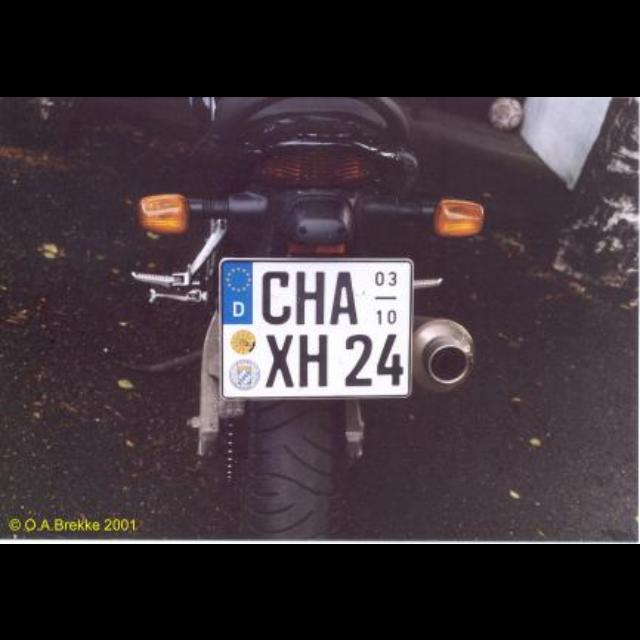d_license_plate: (220, 256, 412, 398)
